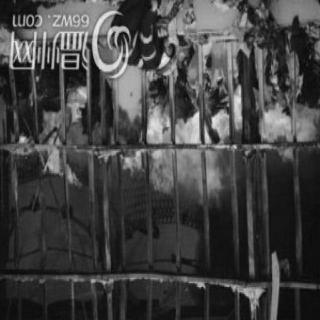Fire: (36, 106, 82, 196)
